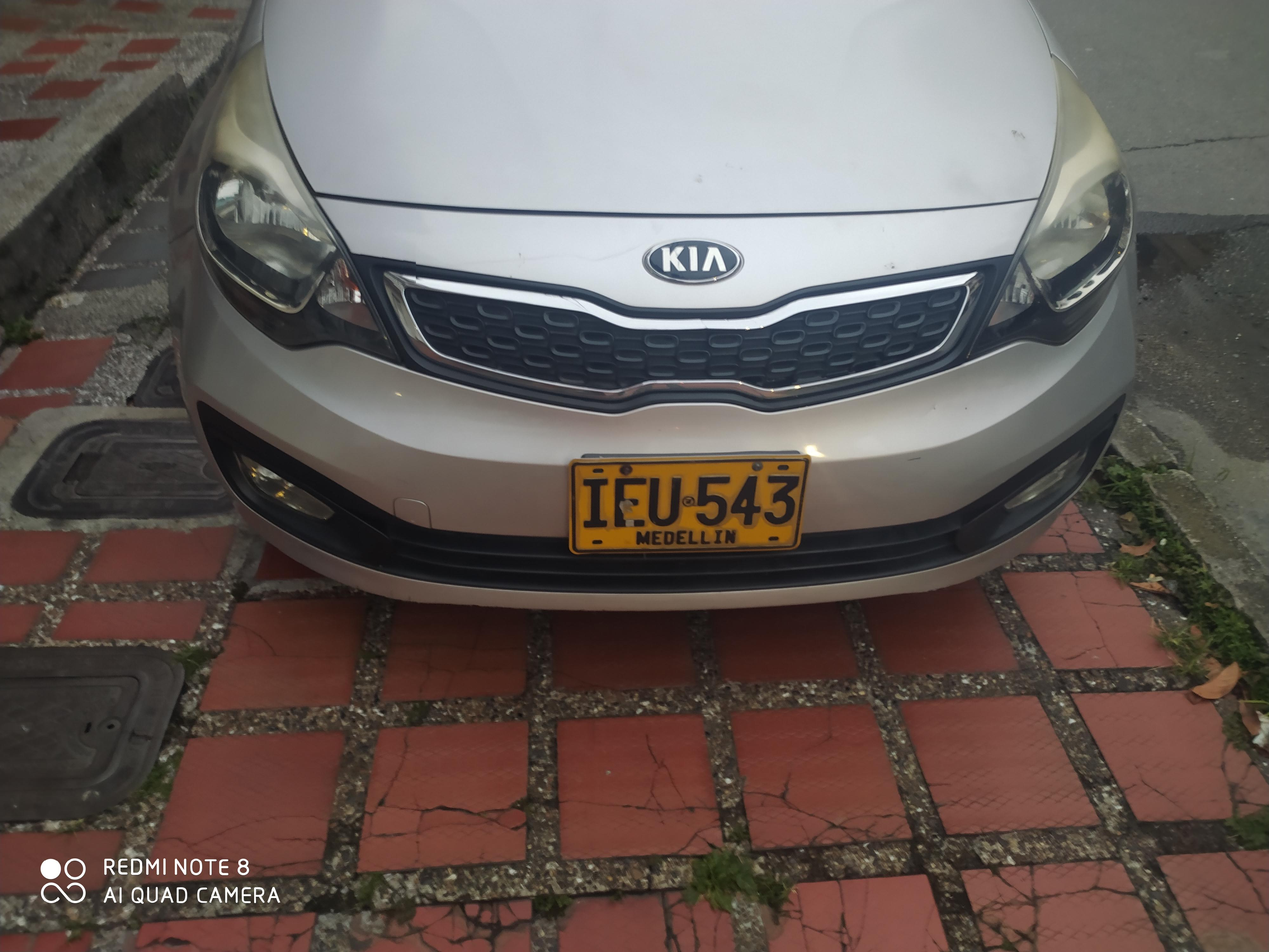placa: (558, 449, 813, 558)
